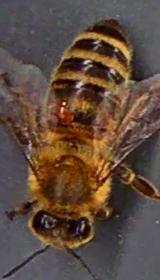varroa_mite: (51, 103, 80, 124)
